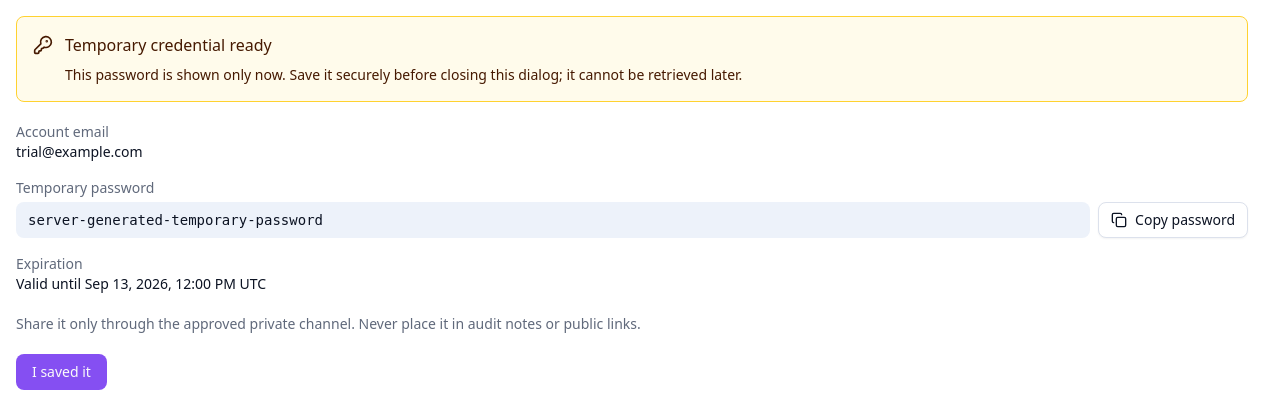
Test: one-time temporary credential result › keeps the password selectable and announces a clipboard failure
Click the button "Copy password" at point(1173, 220), box [1098,202,1248,238]
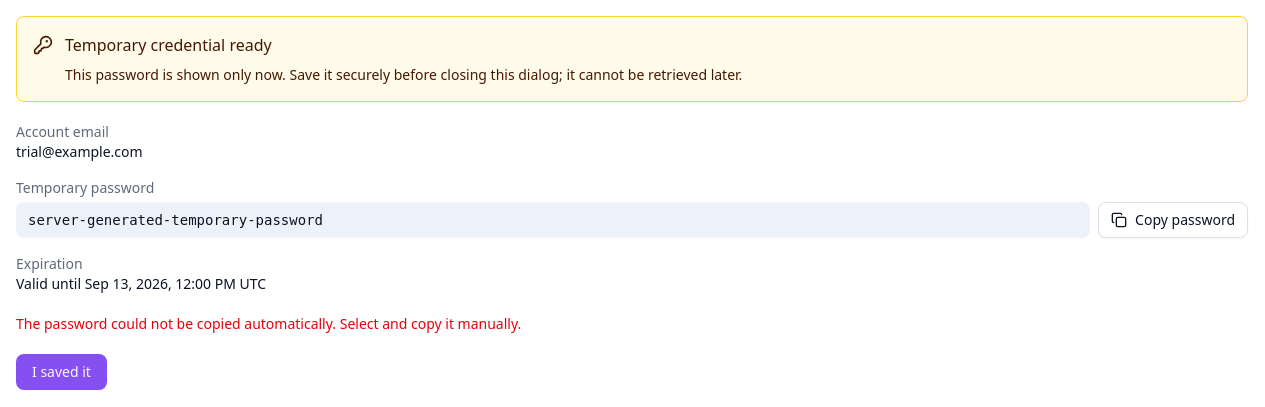
Result: the text "could not be copied automatically" is shown at [16,314,521,333]
